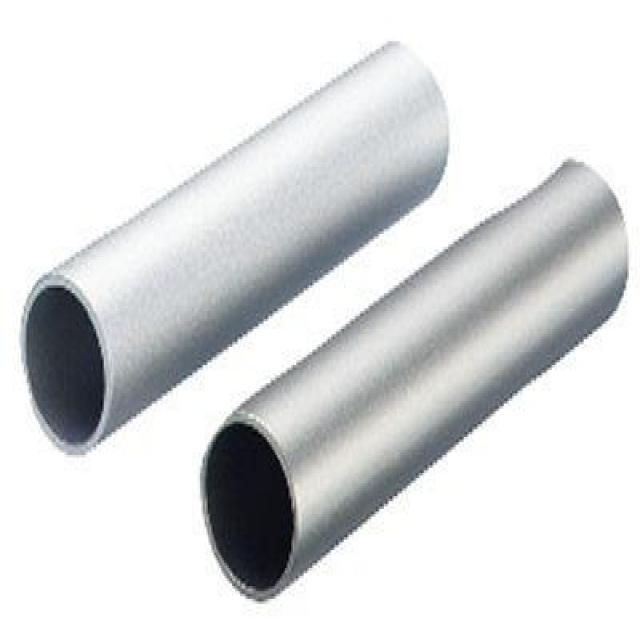pipe: (205, 424, 294, 592), (25, 287, 105, 444)
